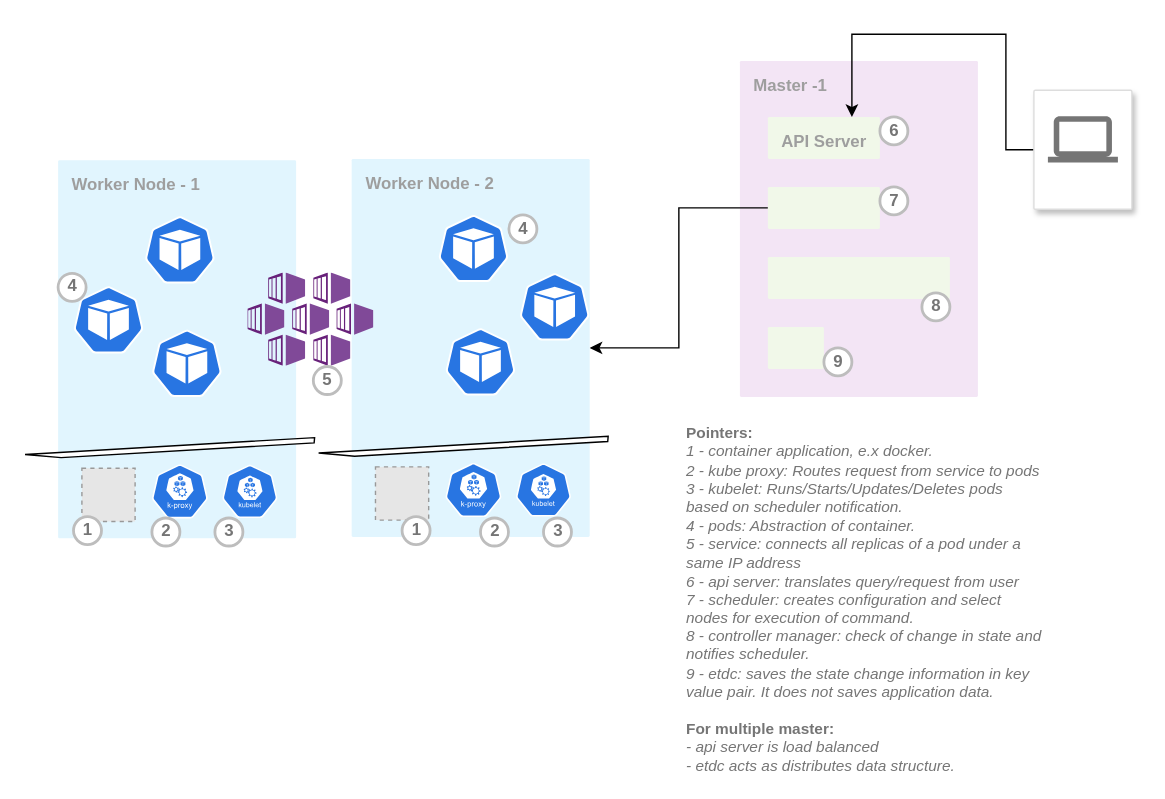
Image size: 1165x799. Some labels were removed from this diagram. Grey dashed boxes stand in for pictures. The centre of each missing label's shape, as x and y in pixels:
"Controller Manager" belongs at point (858, 277).
"etdc" belongs at point (795, 347).
"Scheduler" belongs at point (823, 207).
"User" belongs at point (1083, 151).
